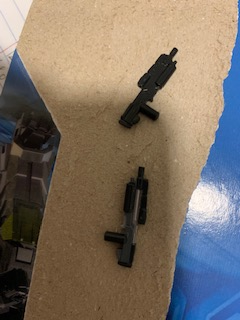rifle: (118, 46, 179, 131), (104, 164, 151, 269)
